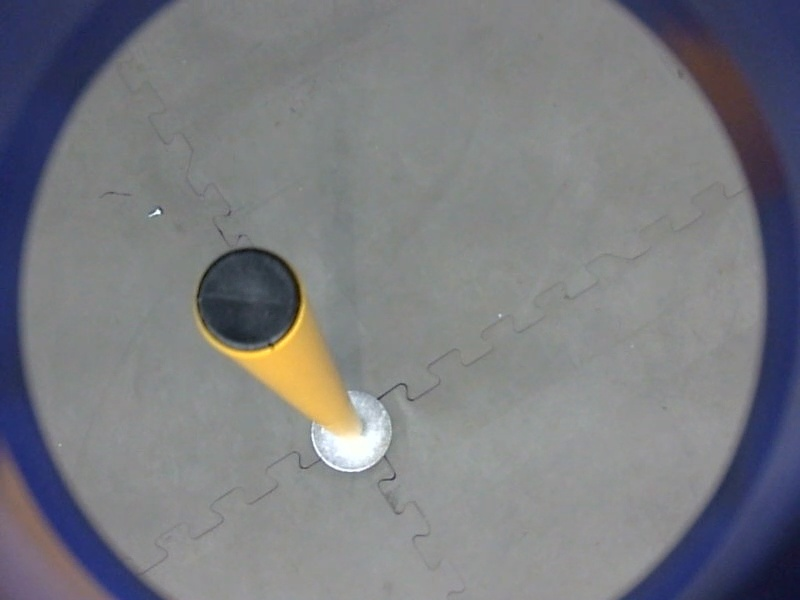tip: (186, 238, 311, 366)
